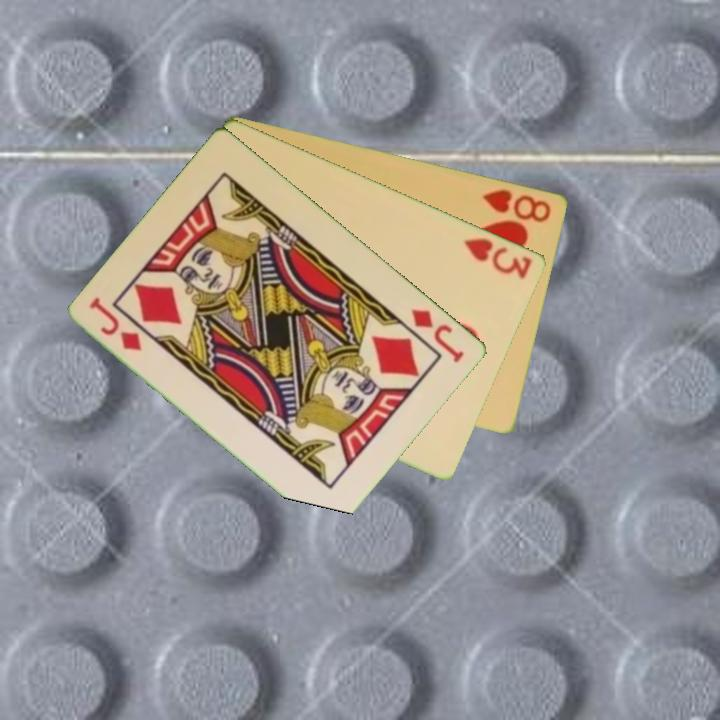3h: (461, 234, 536, 282)
8h: (479, 185, 555, 225)
Jd: (408, 304, 468, 366), (86, 293, 146, 355)
